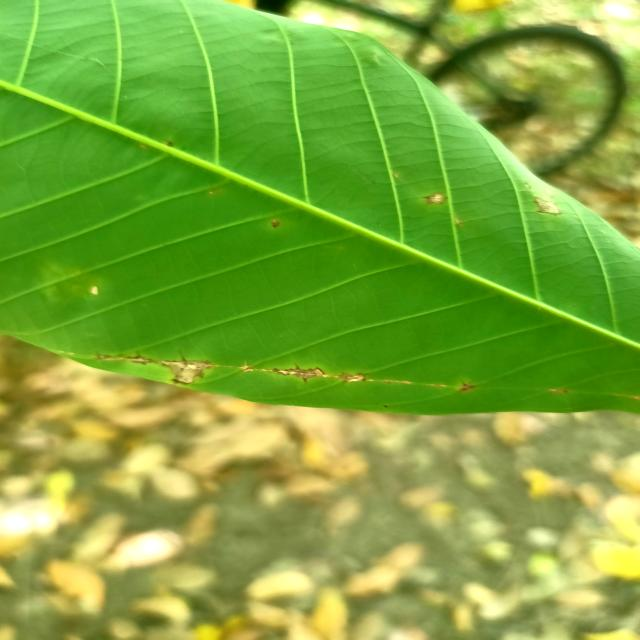Colletotrichum: (428, 192, 447, 205), (272, 219, 280, 228)
Leaf-Blight: (162, 360, 211, 383), (279, 367, 325, 382), (535, 197, 559, 214), (342, 373, 364, 382)
